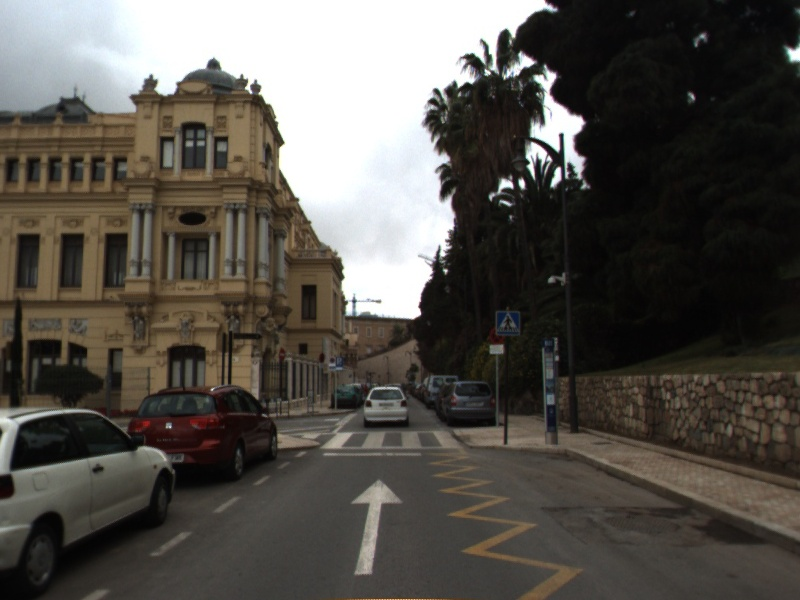STRAIGHT: (348, 476, 406, 577)
